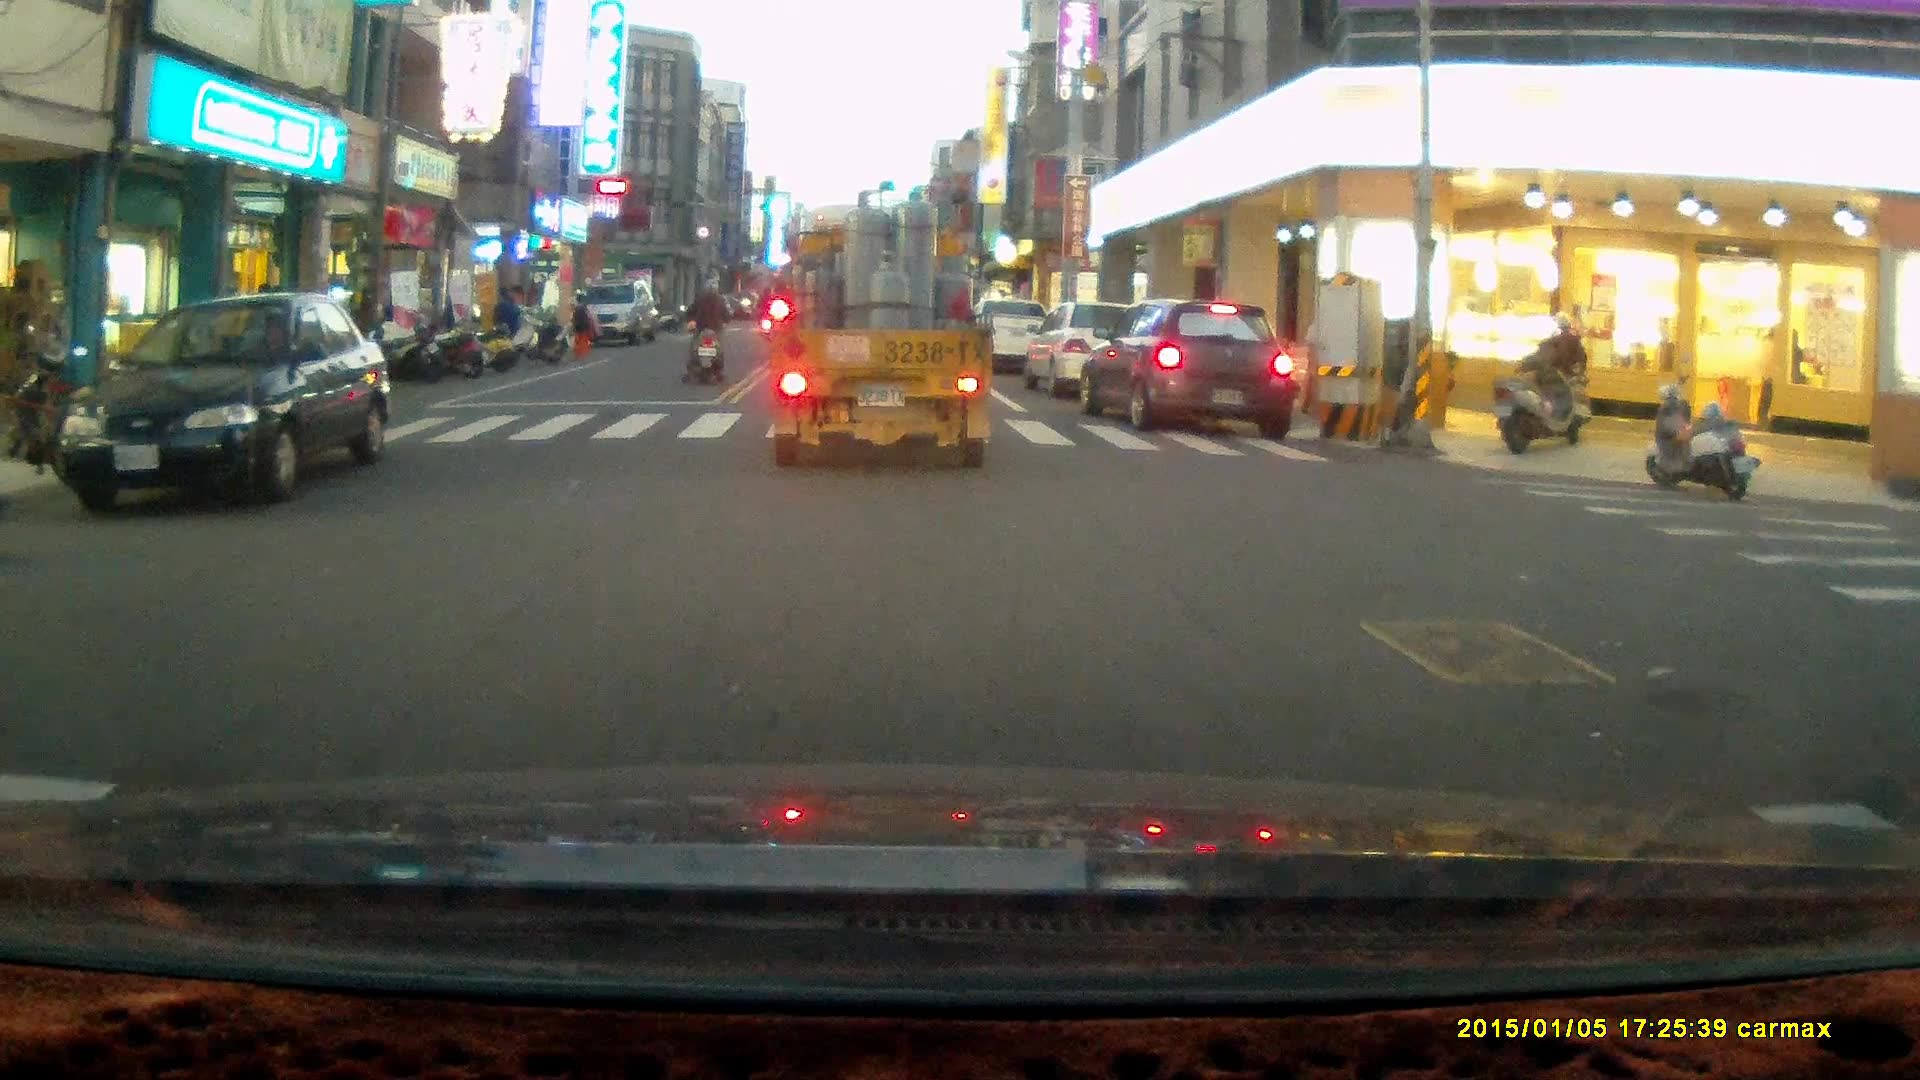pedestrian: (494, 282, 526, 359), (571, 293, 593, 361)
rider: (1514, 307, 1592, 445), (680, 275, 730, 388)
vehicle: (51, 290, 401, 518), (767, 183, 992, 476), (1073, 296, 1306, 435), (1025, 302, 1167, 403), (974, 296, 1065, 380), (581, 282, 668, 349)
